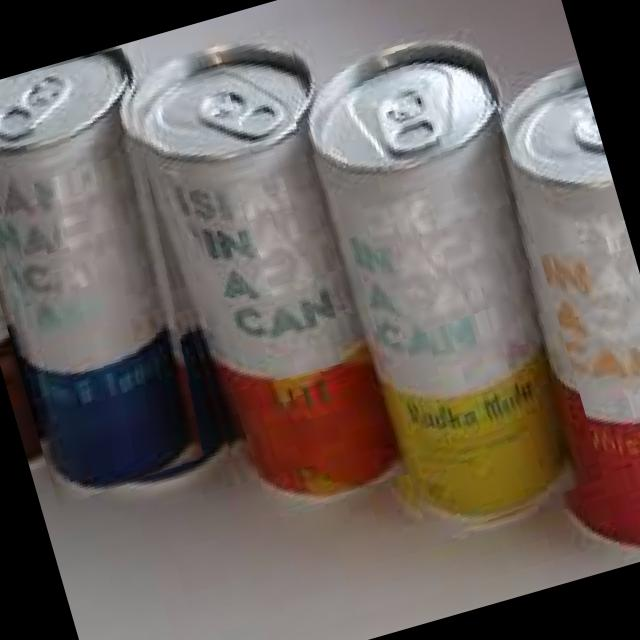Cans: (282, 23, 607, 546), (106, 15, 412, 522), (0, 47, 239, 508)
